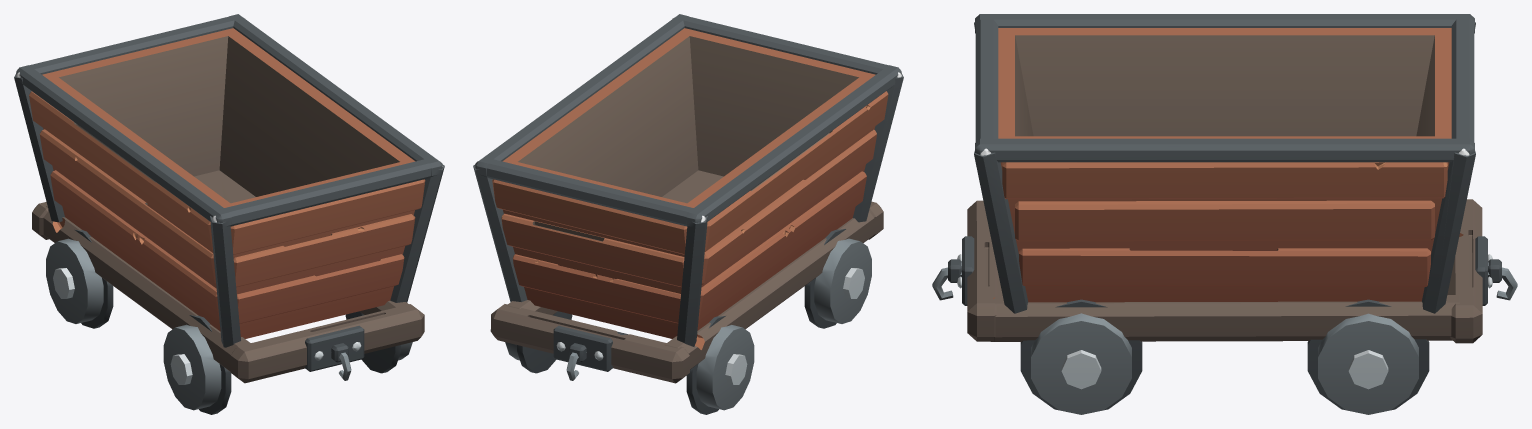
Rendered from mine_cart_empty.glb.
3 renders of one model, left to right at view 1: azimuth 30°, elevation 25°; view 2: azimuth 150°, elevation 25°; view 3: azimuth 270°, elevation 25°, orthographic. The views are drawn at different scales.
Visible parts, largest first — view 1: mine_cart_empty; view 2: mine_cart_empty; view 3: mine_cart_empty.
Boxes of the visible parts, x1,y1,x2,y2 form: mine_cart_empty: (14,14,444,414); mine_cart_empty: (473,14,903,414); mine_cart_empty: (932,14,1517,414).
Bounding box in the file's own units: 1.23 × 1.18 × 2.2.
Materials: 1 (1 with a texture image).
